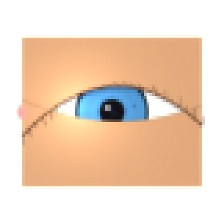pinguecula_lesion: (30, 94, 73, 128)
